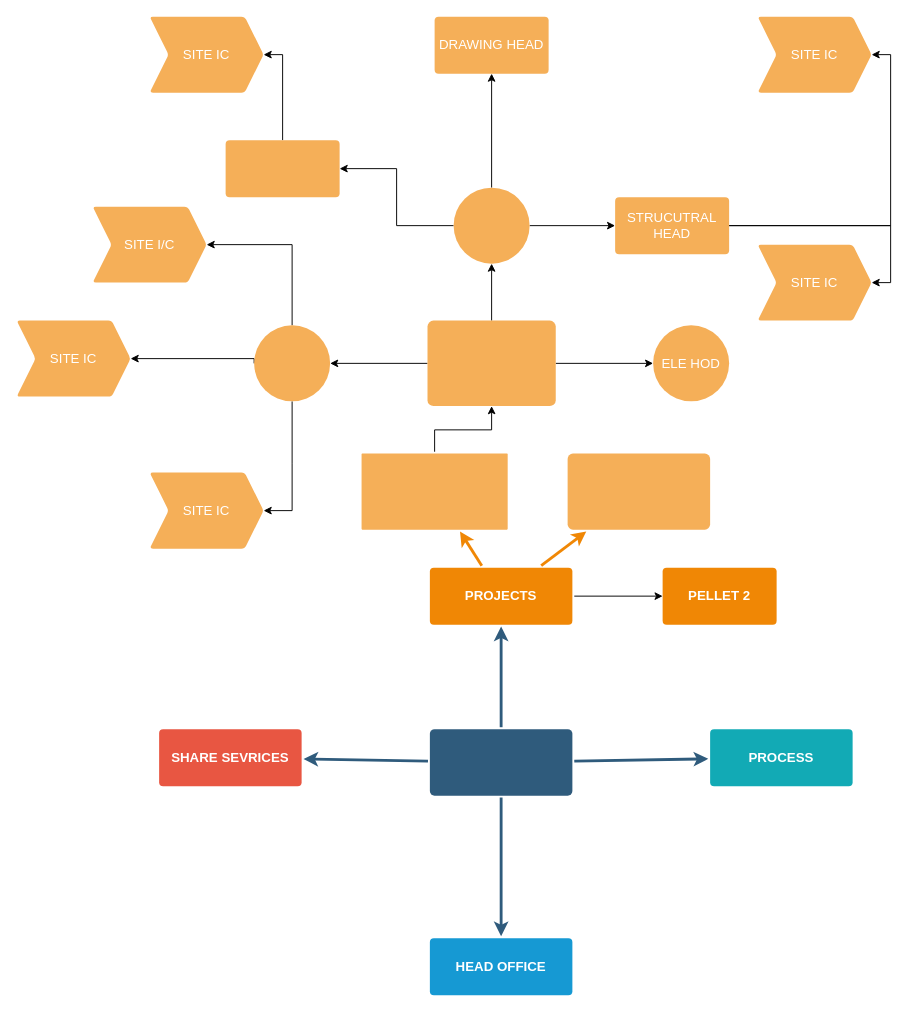
This 915x1011 diagram has some shape labels left out. The centre of each missing label's shape, as x and y in pixels:
"BLAST FURNACE" belongs at (x=434, y=491).
"CIVIL HOD" belongs at (x=292, y=363).
"COKE OVEN" belongs at (x=638, y=491).
"ENGG HOD" belongs at (x=491, y=225).
"HOD (AVERAGE ODIF OF HIS WORKS AND DIRECT REPORTS" belongs at (x=491, y=363).
"PIPING HEAD" belongs at (x=282, y=168).
"PMO" belongs at (x=500, y=762).
